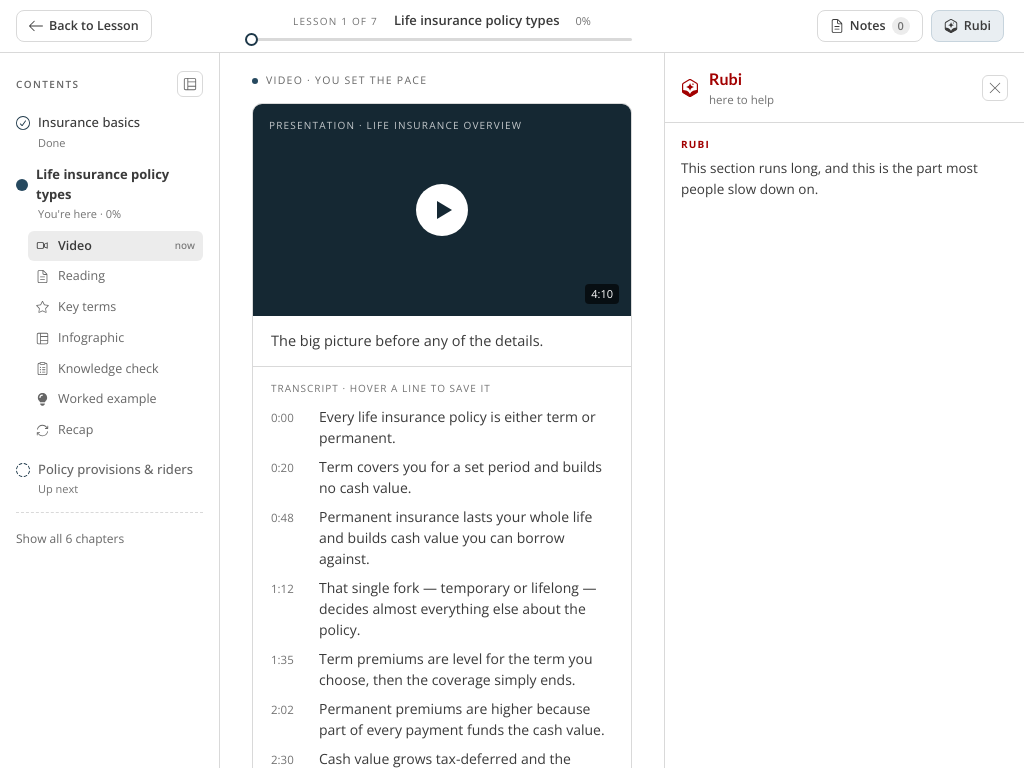
the Compass session › the Contents arrow COLLAPSES the column — it no longer leaves
The image size is (1024, 768).
Click the button named "Collapse contents": {"x": 190, "y": 84} [177, 71, 203, 97]
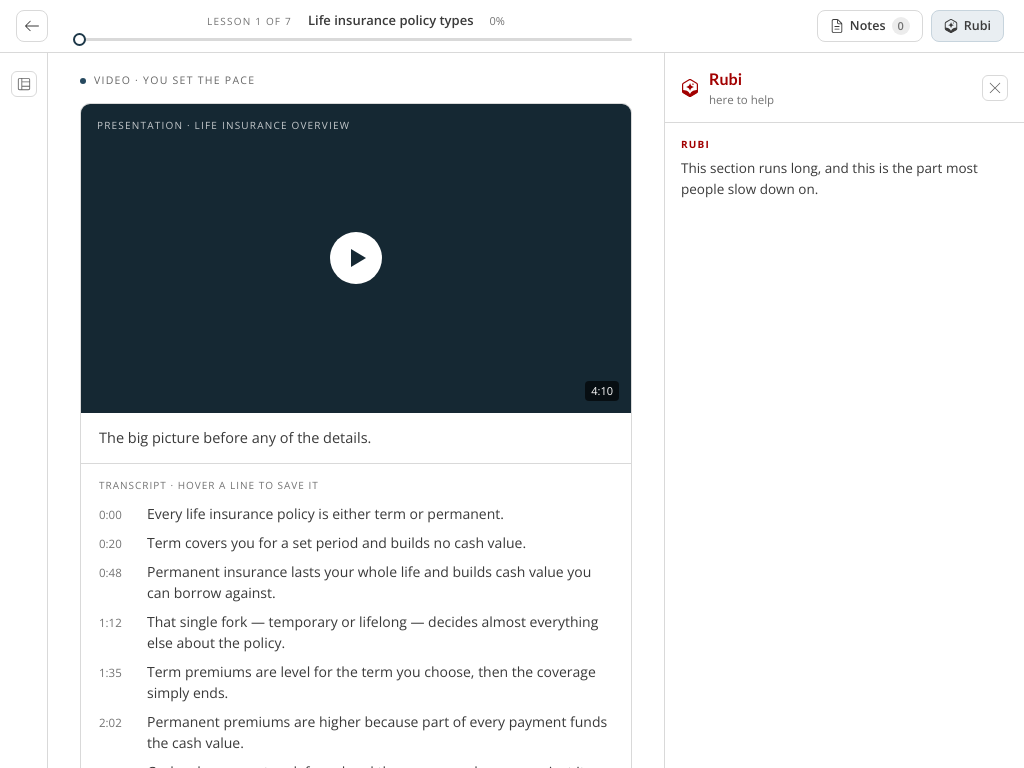
Expected: the text "Insurance basics" is gone
Click the button named "Show contents": {"x": 24, "y": 84} [10, 71, 36, 97]
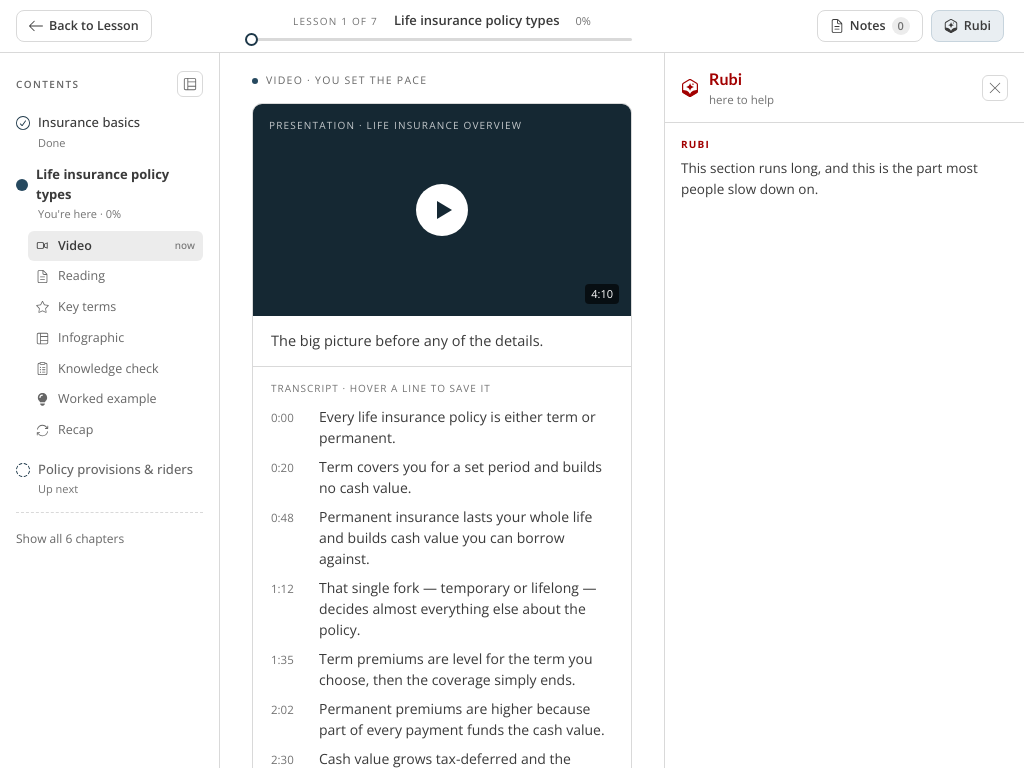
Expected: the text "Insurance basics" is shown, [38, 113, 140, 132]
